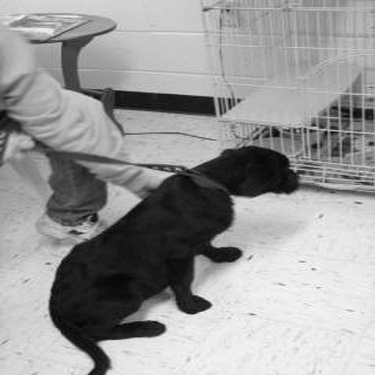dog: (36, 138, 306, 369)
